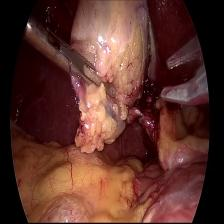Clipper: (157, 38, 207, 110)
Grasper: (27, 16, 109, 96)
